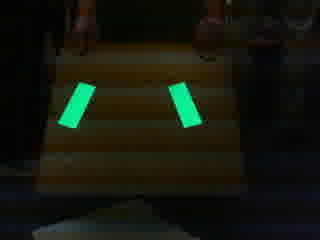target: (54, 81, 205, 130)
